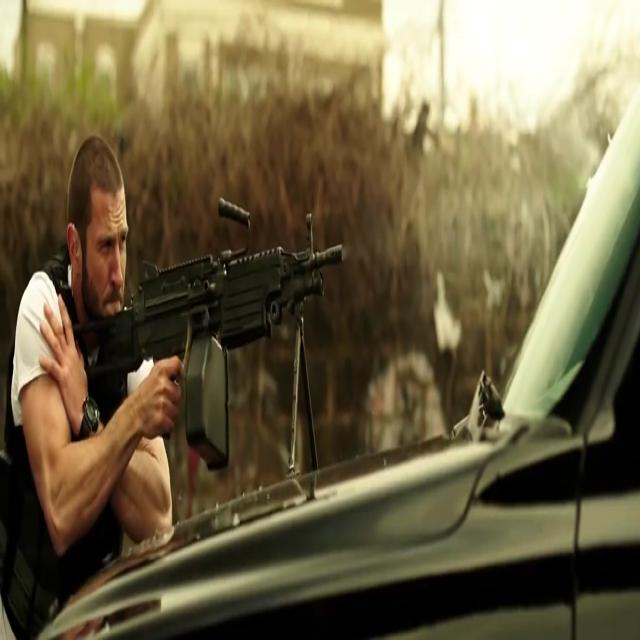Weapon: (56, 193, 363, 438)
